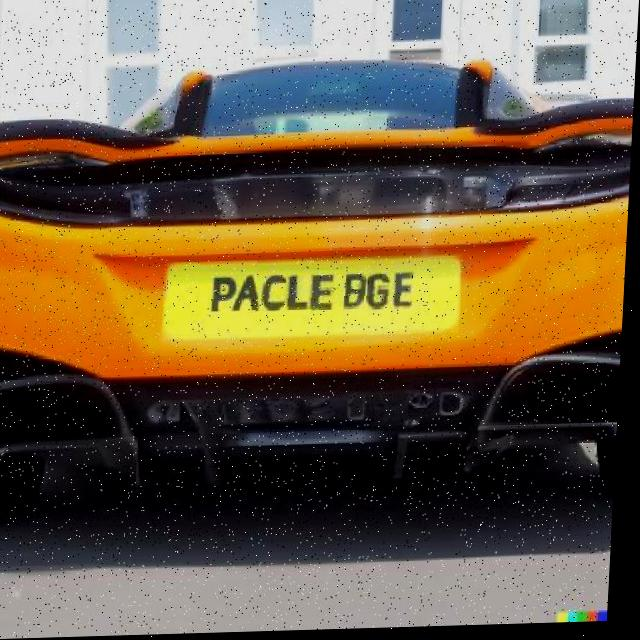LicensePlate: (166, 261, 464, 339)
